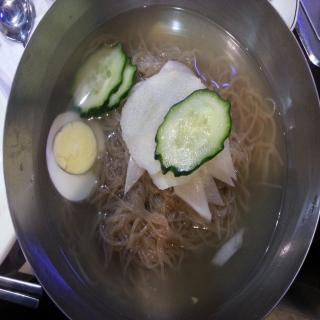Cucumber: (153, 82, 230, 176), (69, 41, 128, 110), (92, 56, 138, 112)
